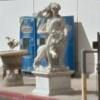Statue: (28, 5, 87, 83)
